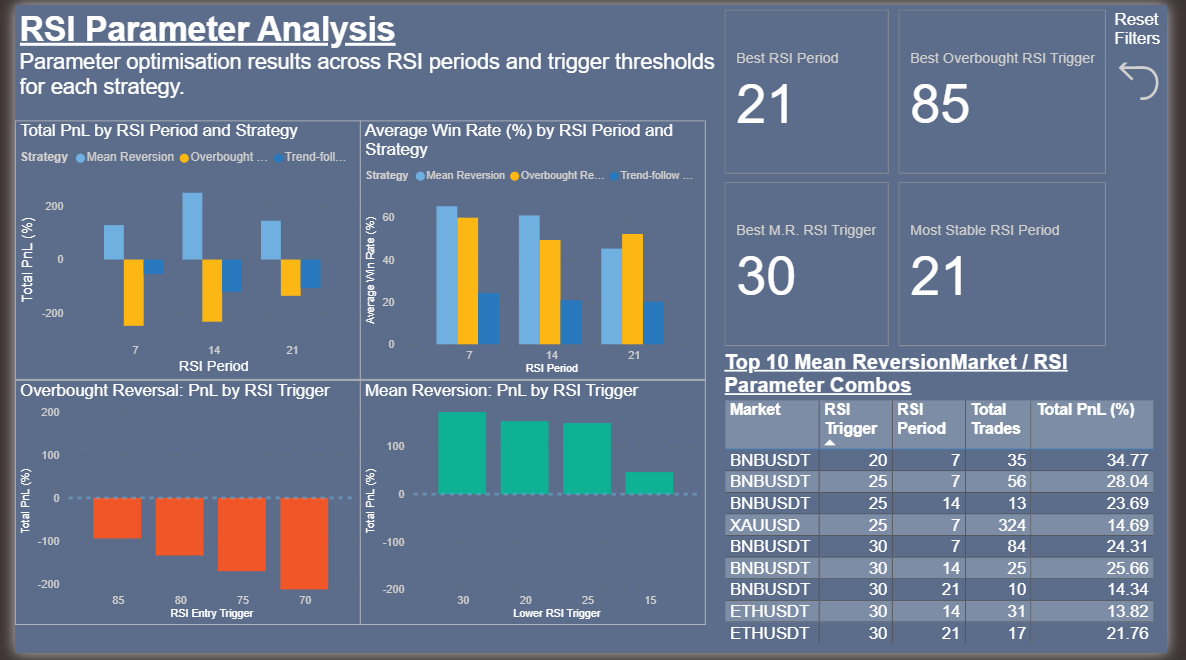

What the dashboard file says about the page in this screenshot:
{"tool":"powerbi","page":{"name":"RSI Analysis","canvas":[1280,720],"ordinal":2},"visuals":[{"type":"clusteredColumnChart","title":"Total PnL by RSI Period and Strategy","fields":{"Category":["rsi_strategy_results.RSI Period"],"Y":["Sum(rsi_strategy_results.Total PnL (%))"],"Series":["rsi_strategy_results.Strategy"]},"box":[0,128,384,288],"z":0},{"type":"clusteredColumnChart","title":"Overbought Reversal: PnL by RSI Trigger ","fields":{"Category":["rsi_strategy_results.Upper RSI Trigger"],"Y":["Sum(rsi_strategy_results.Total PnL (%))"]},"box":[0,416,384,272],"z":1000},{"type":"clusteredColumnChart","title":"Mean Reversion: PnL by RSI Trigger ","fields":{"Y":["Sum(rsi_strategy_results.Total PnL (%))"],"Category":["rsi_strategy_results.Lower RSI Trigger"]},"box":[384,416,384,272],"z":2000},{"type":"clusteredColumnChart","fields":{"Category":["rsi_strategy_results.RSI Period"],"Series":["rsi_strategy_results.Strategy"],"Y":["rsi_strategy_results.Average Win Rate"]},"box":[384,128,384,288],"z":3000},{"type":"cardVisual","fields":{"Data":["rsi_strategy_results.Best RSI Period"]},"box":[784,0,192,192],"z":4000},{"type":"cardVisual","fields":{"Data":["Max(rsi_strategy_results.Upper RSI Trigger)"]},"box":[976,0,240,192],"z":5000},{"type":"cardVisual","fields":{"Data":["rsi_strategy_results.Best Lower RSI"]},"box":[784,192,192,192],"z":6000},{"type":"cardVisual","fields":{"Data":["rsi_strategy_results.Most Stable RSI Period"]},"box":[976,192,240,192],"z":7000},{"type":"tableEx","title":"Top 10 Mean ReversionMarket / RSI Parameter Combos","fields":{"Values":["rsi_strategy_results.Market","rsi_strategy_results.Lower RSI Trigger","rsi_strategy_results.RSI Period","Sum(rsi_strategy_results.Total Trades)","Sum(rsi_strategy_results.Total PnL (%))"]},"box":[784,384,496,336],"z":8000},{"type":"textbox","box":[0,0,784,128],"z":9000},{"type":"actionButton","box":[1216,48,64,64],"z":10000},{"type":"textbox","box":[1216,0,64,64],"z":11000}]}

Visuals, with their boxes in screenshot pixels (x1, y1, x2, y2), scaled from the page's 1280x720 canvas onto the 1186x660 screenshot:
"Total PnL by RSI Period and Strategy" clusteredColumnChart: bbox(0, 117, 356, 381)
"Overbought Reversal: PnL by RSI Trigger " clusteredColumnChart: bbox(0, 381, 356, 631)
"Mean Reversion: PnL by RSI Trigger " clusteredColumnChart: bbox(356, 381, 712, 631)
clusteredColumnChart - rsi_strategy_results.RSI Period x rsi_strategy_results.Strategy: bbox(356, 117, 712, 381)
cardVisual - rsi_strategy_results.Best RSI Period: bbox(726, 0, 904, 176)
cardVisual - Max(rsi_strategy_results.Upper RSI Trigger): bbox(904, 0, 1127, 176)
cardVisual - rsi_strategy_results.Best Lower RSI: bbox(726, 176, 904, 352)
cardVisual - rsi_strategy_results.Most Stable RSI Period: bbox(904, 176, 1127, 352)
"Top 10 Mean ReversionMarket / RSI Parameter Combos" tableEx: bbox(726, 352, 1185, 659)
textbox: bbox(0, 0, 726, 117)
actionButton: bbox(1127, 44, 1185, 103)
textbox: bbox(1127, 0, 1185, 59)
